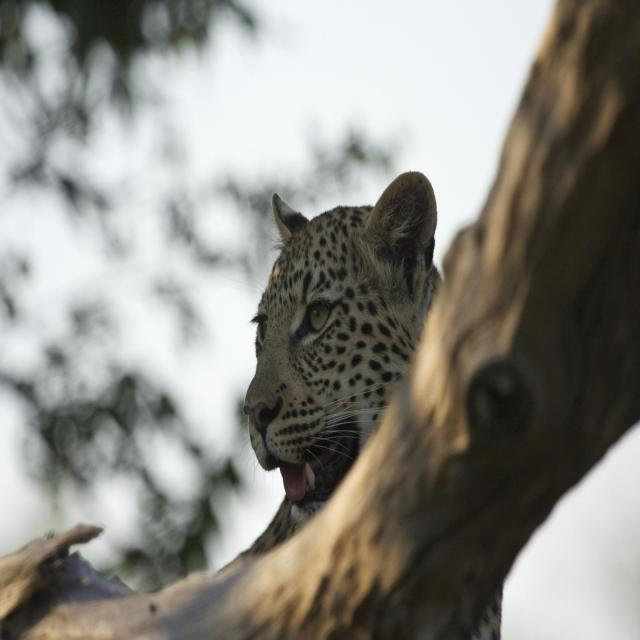Leopard: (234, 155, 514, 640)
